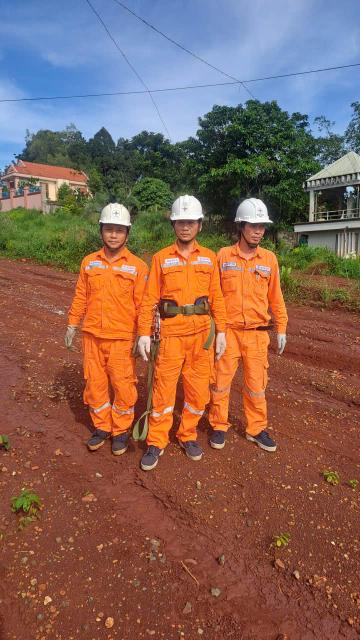gloves: (58, 318, 82, 355), (270, 328, 295, 358), (215, 323, 233, 362), (125, 332, 144, 367), (142, 331, 154, 366)
harness: (148, 298, 227, 322)
helmet: (232, 194, 286, 233), (89, 196, 141, 229), (160, 193, 210, 227)
shoes: (238, 417, 294, 462), (174, 425, 207, 468), (139, 434, 171, 474), (82, 424, 111, 465), (112, 428, 134, 463), (208, 423, 232, 452)
